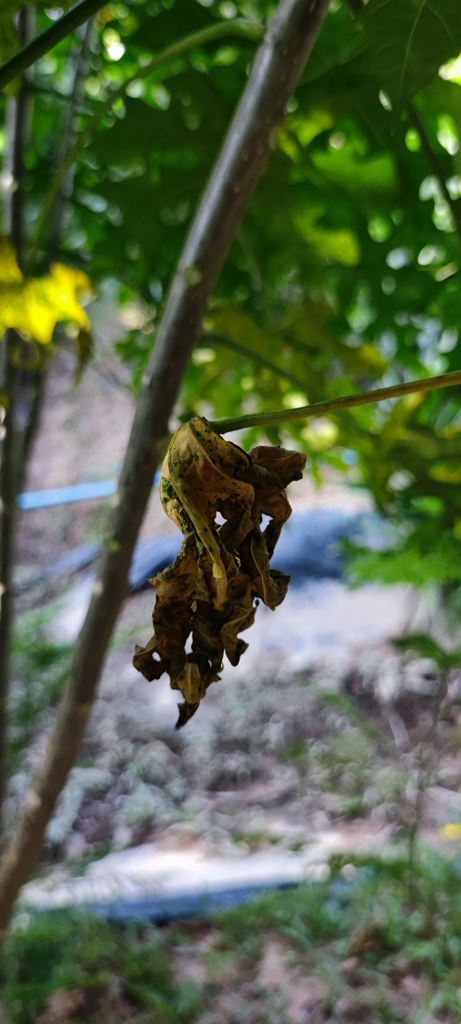Pepper yellow leaf: (144, 419, 306, 729)
